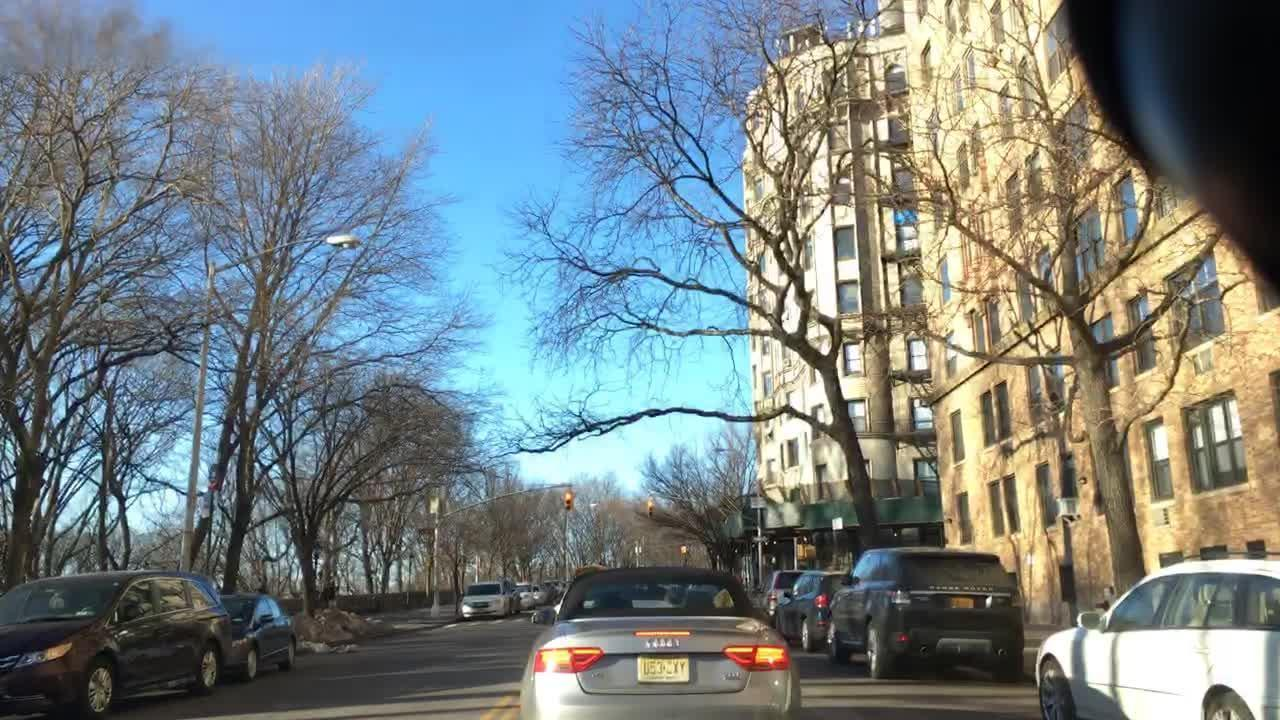Audi: (642, 634, 686, 650)
range rover: (921, 583, 998, 594)
